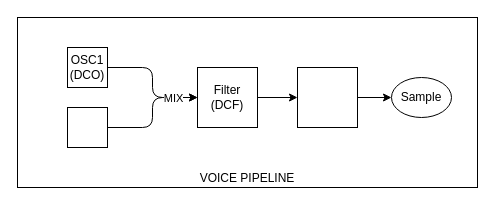
Image size: 495x205. Some labels were removed from this diagram. Here are the shapes that lost their labels. From the top down, the centre of each, then its label:
At point (327, 97): "Amp (DCA)".
At point (87, 127): "OSC1 (DCO".
